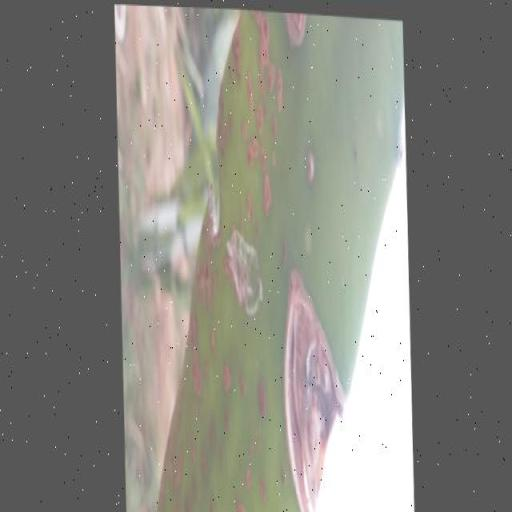stemcanker: (304, 146, 317, 187), (243, 187, 255, 223), (257, 474, 269, 504), (279, 238, 290, 270), (208, 332, 218, 364), (244, 463, 255, 491), (240, 115, 250, 145), (280, 464, 288, 490), (232, 498, 244, 512), (206, 501, 218, 512)
